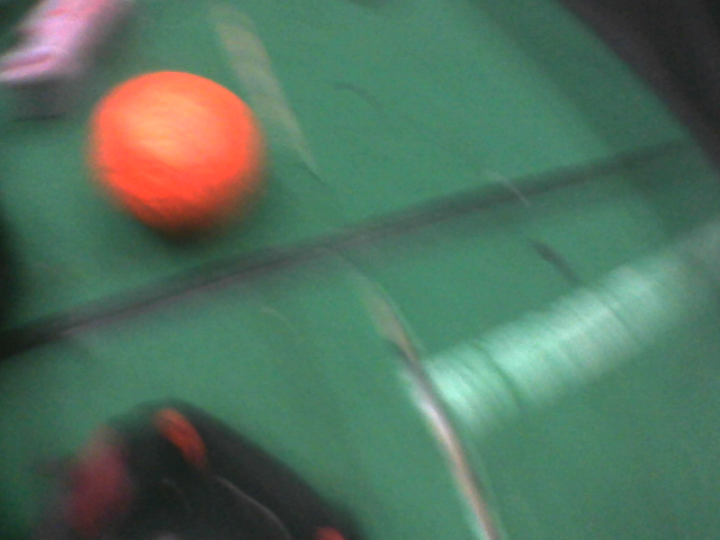bola: (87, 67, 269, 240)
